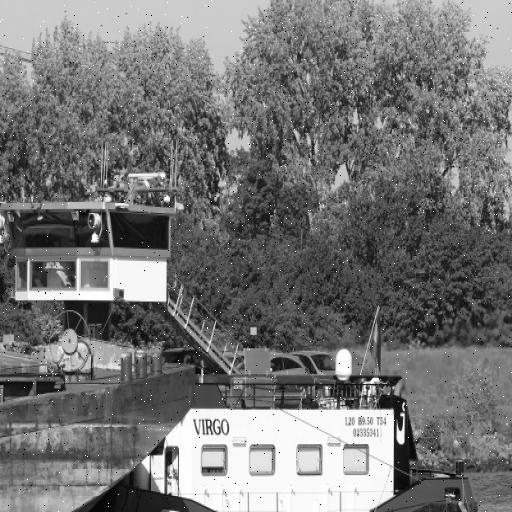tugboat: (1, 164, 485, 512)
